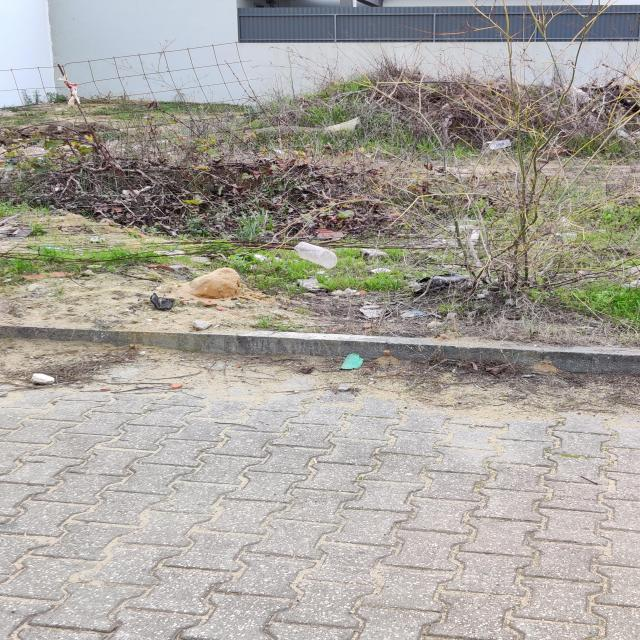litter: (292, 243, 347, 272), (474, 137, 513, 154)
